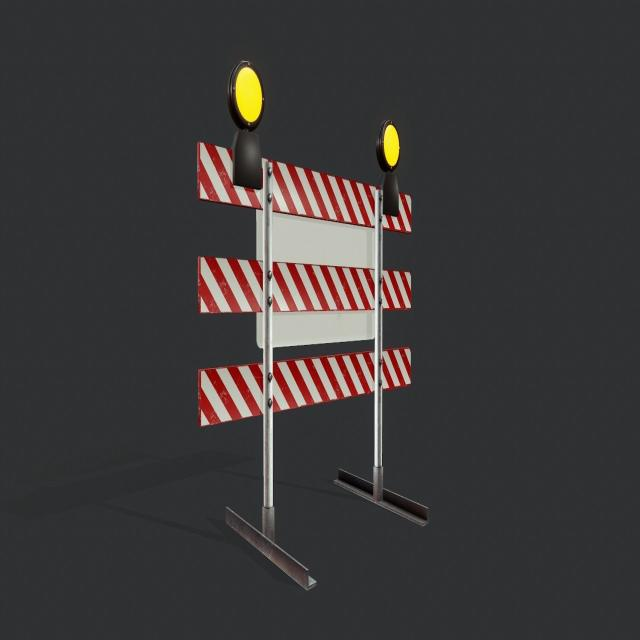cone: (178, 22, 458, 602)
